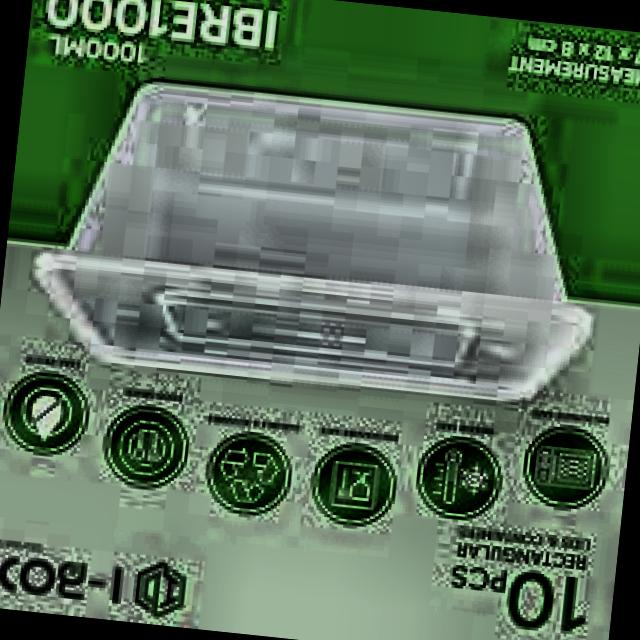plastic container: (37, 83, 589, 400)
